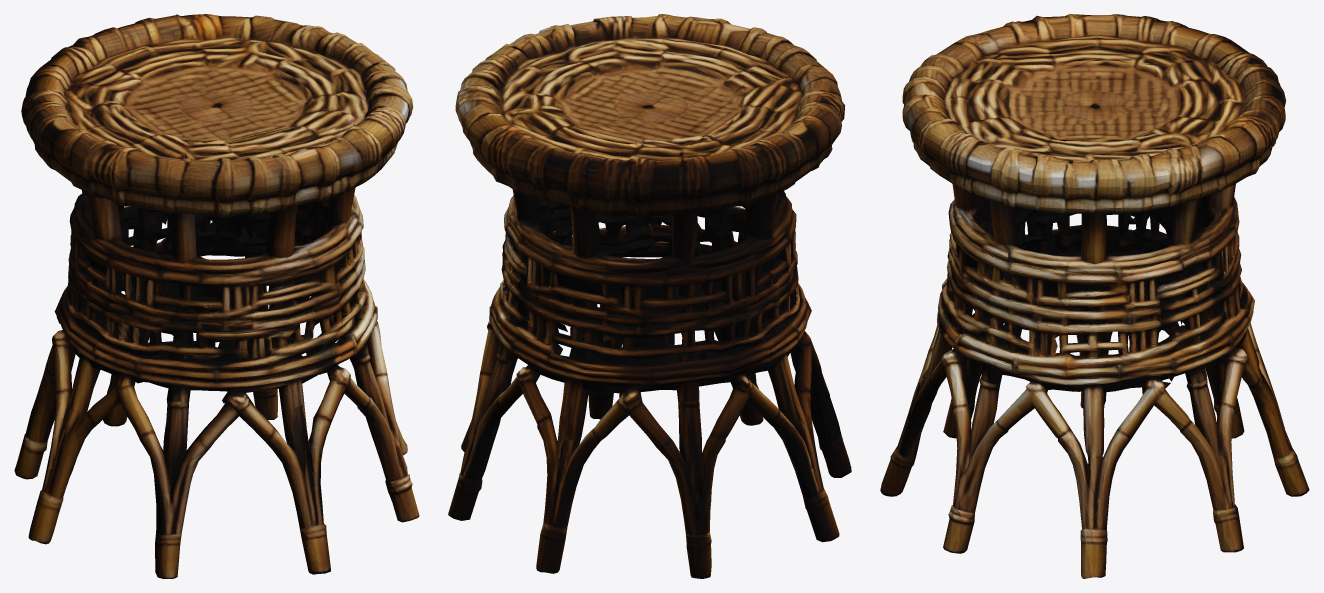
Rendered from woven-bamboo-camping-stool-vintage.jpeg.glb.
3 renders of one model, left to right at view 1: azimuth 30°, elevation 25°; view 2: azimuth 150°, elevation 25°; view 3: azimuth 270°, elevation 25°, orthographic.
Parts seen in each view (by area): view 1: world; view 2: world; view 3: world.
Part boxes in pixels (x1=…): world: x1=14, y1=14, x2=419, y2=578; world: x1=448, y1=14, x2=851, y2=578; world: x1=880, y1=14, x2=1309, y2=578.
Size of the model in its own units: 0.965 by 1 by 0.9615.
Materials: 1 (1 with a texture image).
